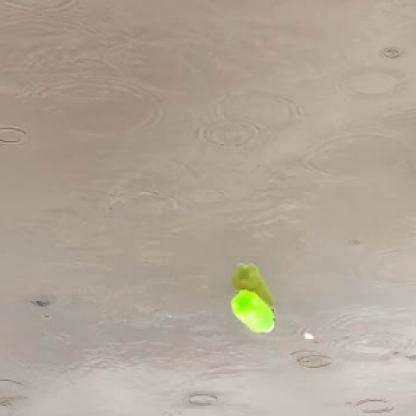Plastic: (228, 286, 275, 335)
